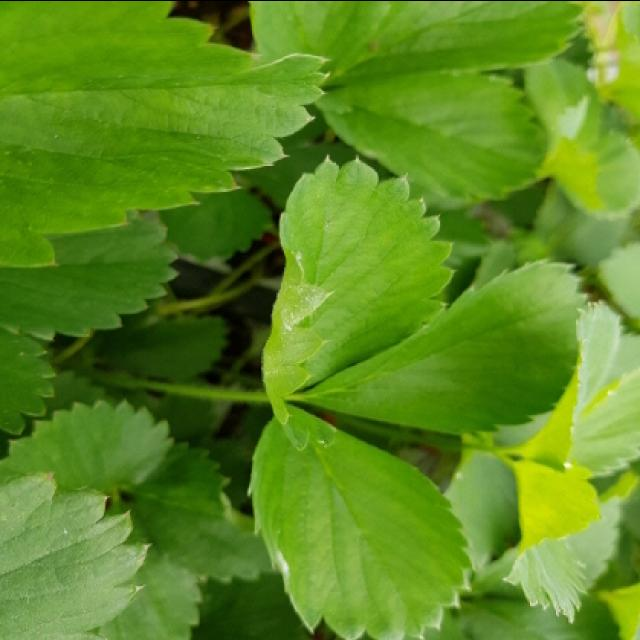Powdery Mildew Leaf: (260, 152, 455, 425), (246, 407, 475, 638)
